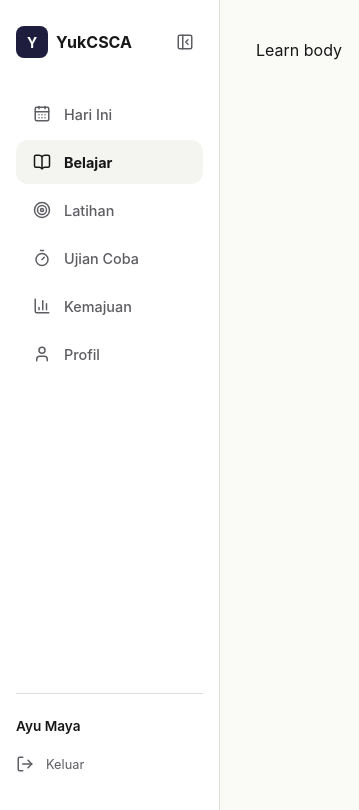
Test: collapses the desktop sidebar and can keep it open again
The width and height of the screenshot is (359, 810).
Expected: the text "Ayu Maya" is shown, [16,718,80,734]
Click the button named "Ciutkan bilah samping": x=185, y=42 [167,24,203,60]
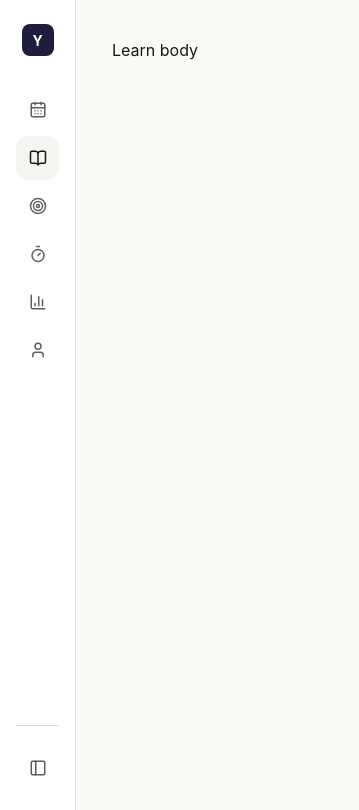
Now the button "Keluar" is gone
Click the button named "Tetap buka bilah samping": x=38, y=768 [20,750,56,786]
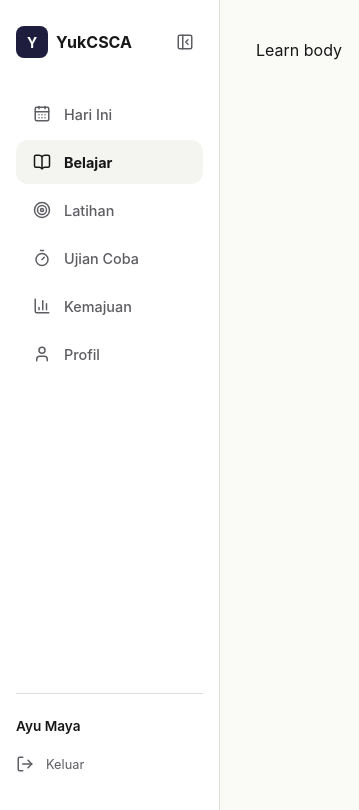
Now the button "Keluar" is shown, box [16,742,203,786]
